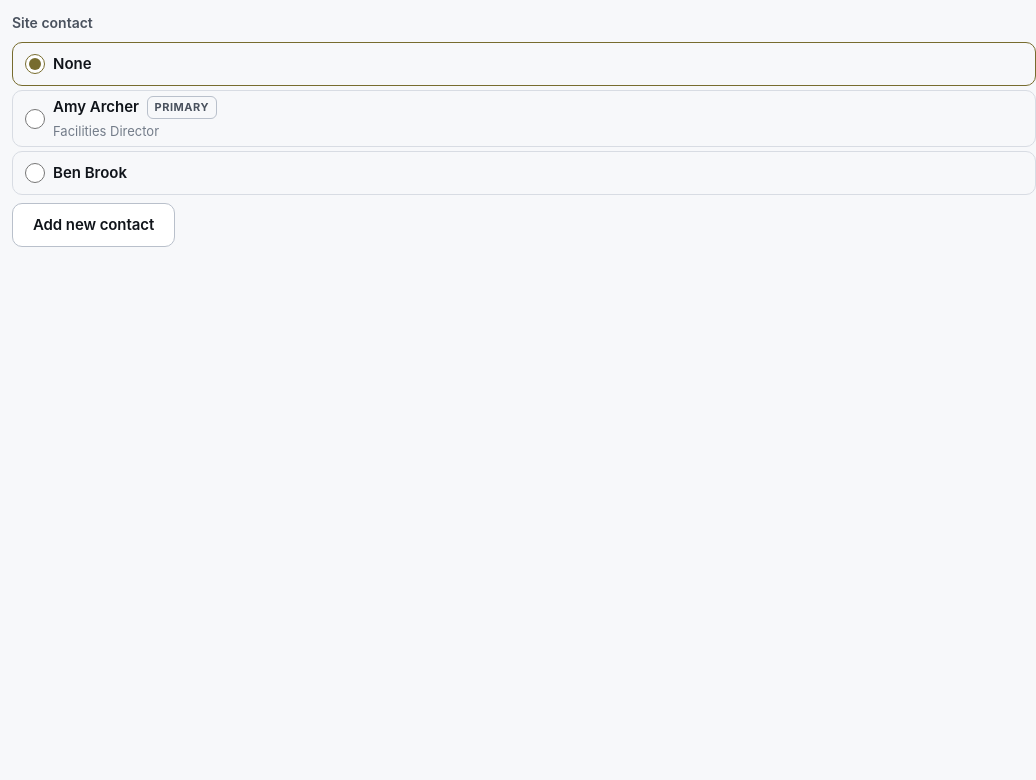
Test: ContactPicker › blocks the inline creator without a name
Click the button "Add new contact" at (94, 225), box x1=12 y1=203 x2=175 y2=247
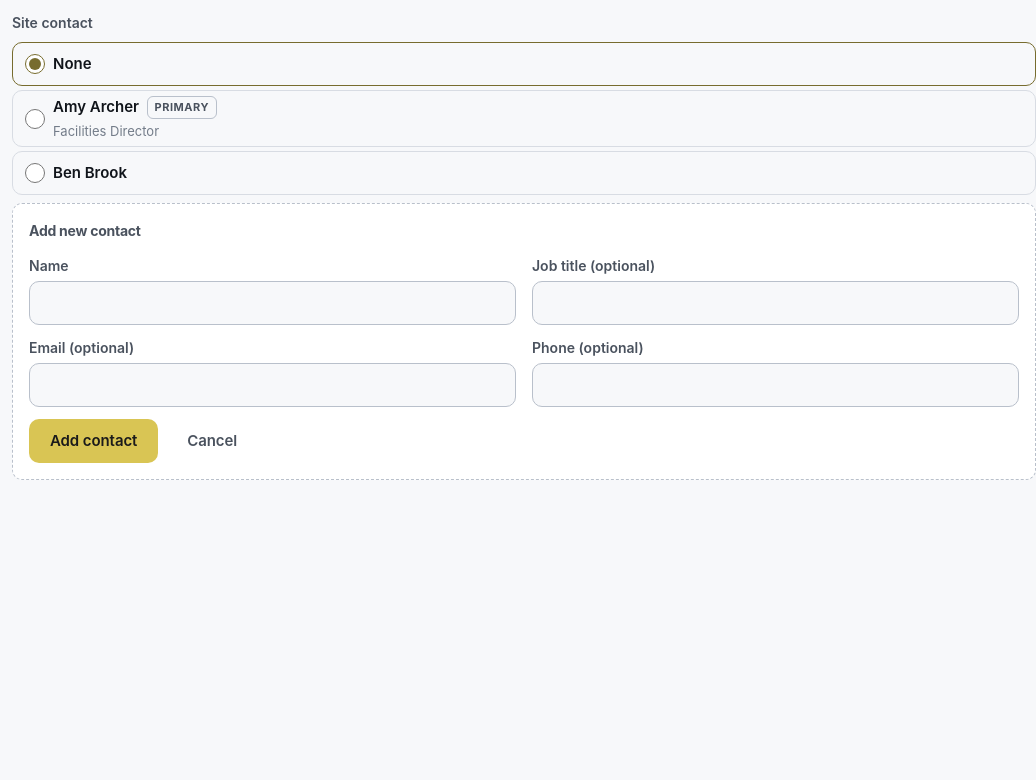
Click the button "Add contact" at (94, 441), box x1=29 y1=419 x2=158 y2=463
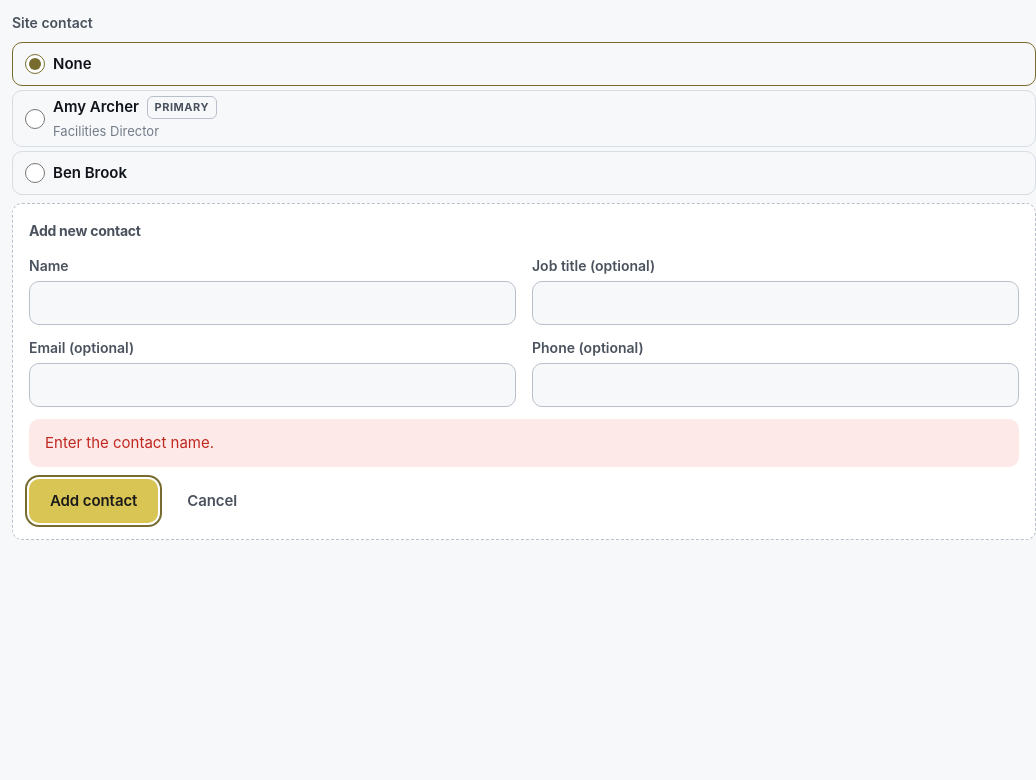
Check: the message reads "Enter the contact name.", box x1=45 y1=433 x2=214 y2=452
